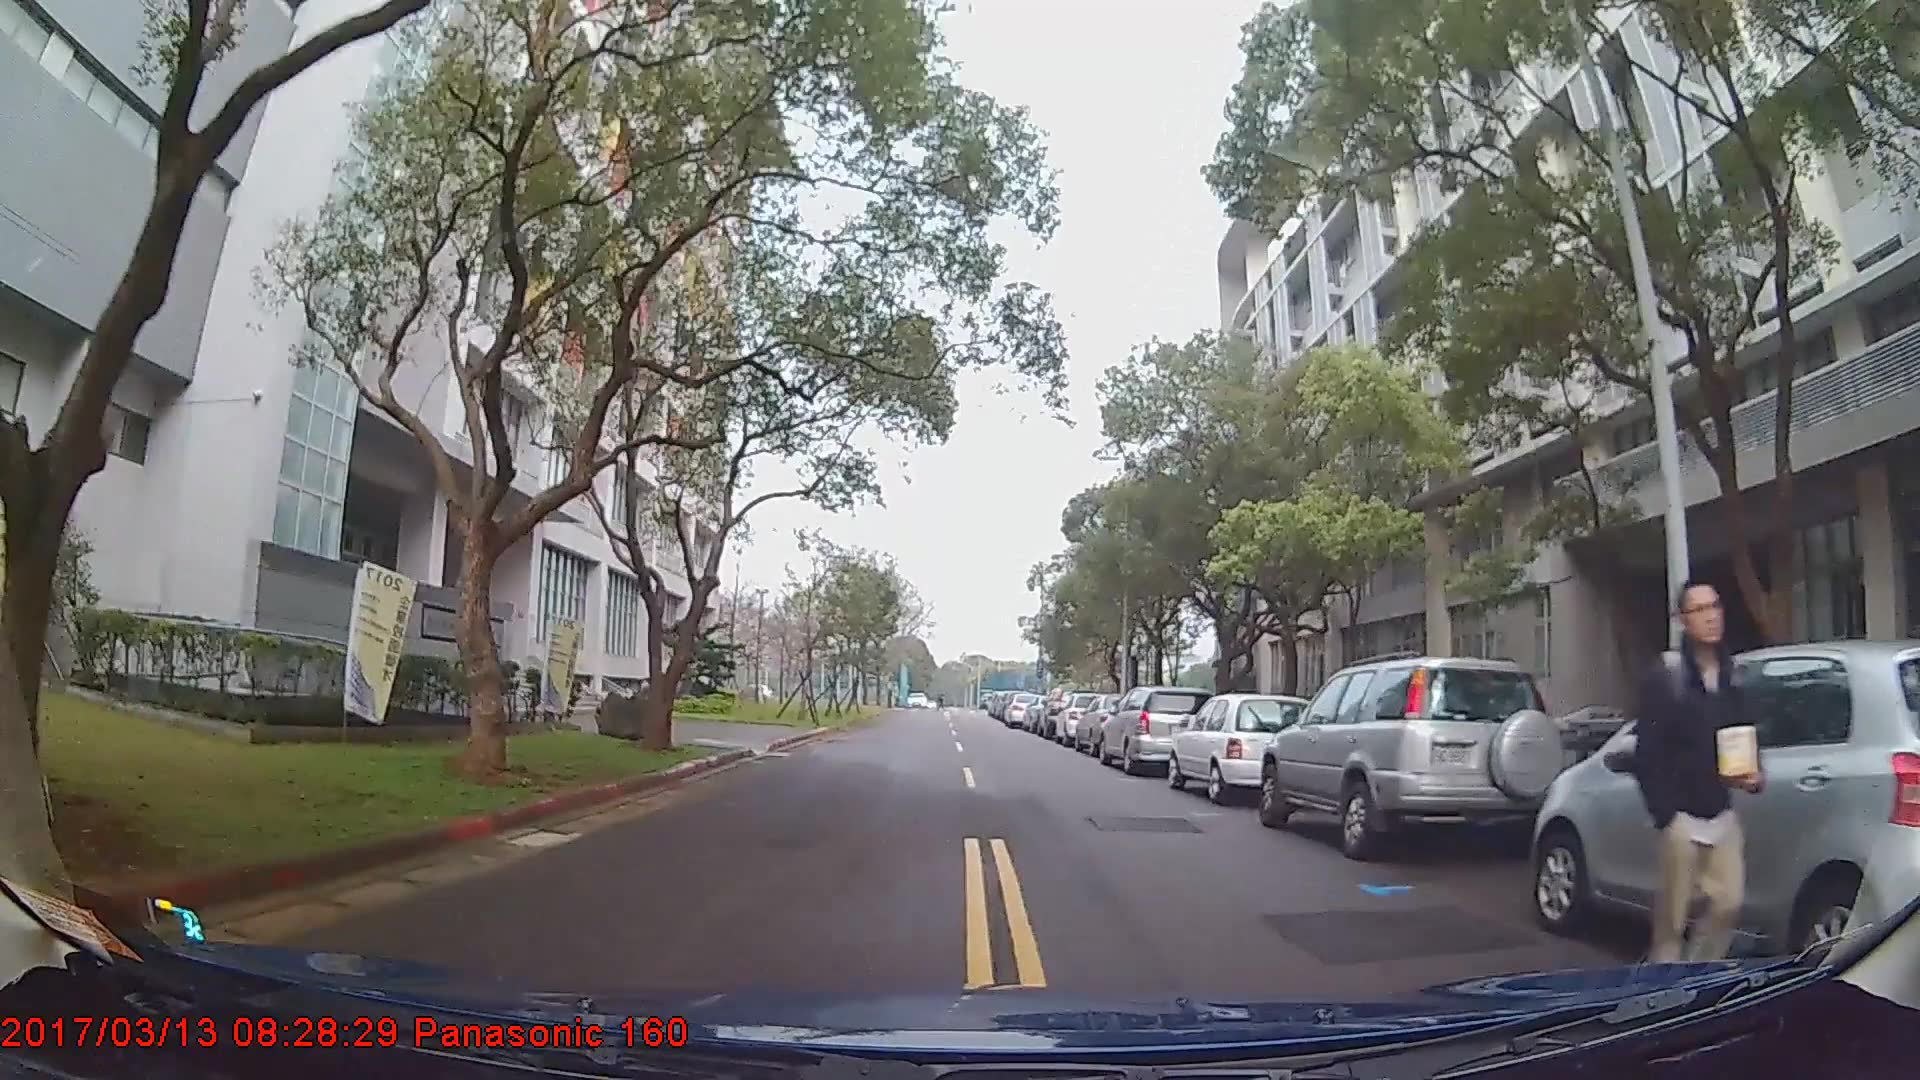pedestrian: (1628, 578, 1755, 1014)
vehicle: (1531, 635, 1920, 985), (1259, 651, 1571, 861), (1165, 691, 1316, 803), (1097, 682, 1216, 772), (1002, 689, 1044, 728)
